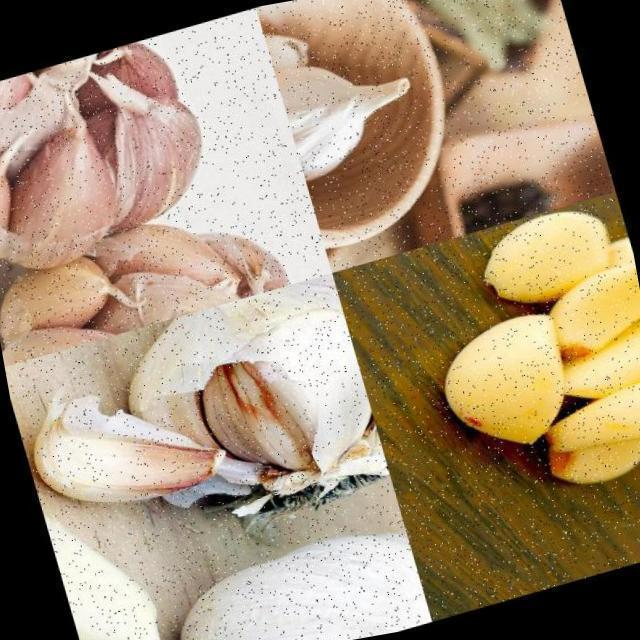garlic: (384, 189, 640, 528), (106, 268, 396, 551), (0, 178, 307, 365), (0, 27, 226, 272), (9, 354, 234, 538), (122, 513, 432, 640), (271, 30, 434, 184), (39, 480, 169, 640)
